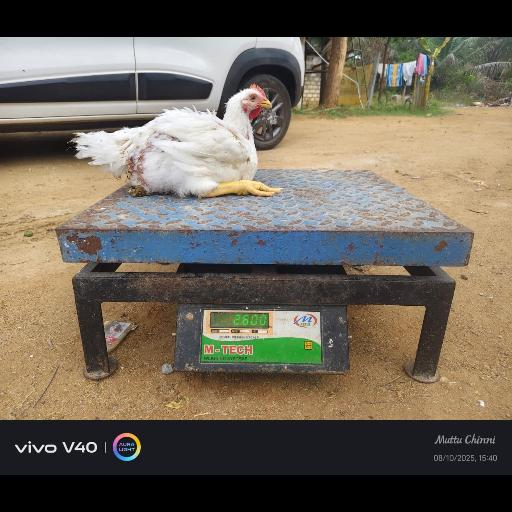chick: (80, 88, 280, 196)
